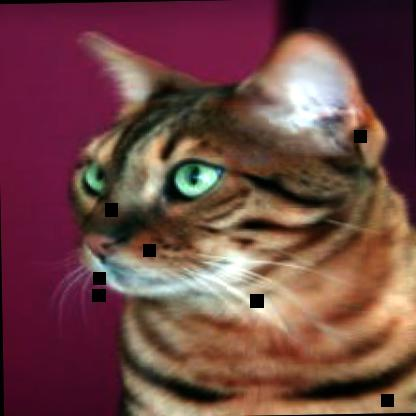cat: (36, 24, 415, 415)
